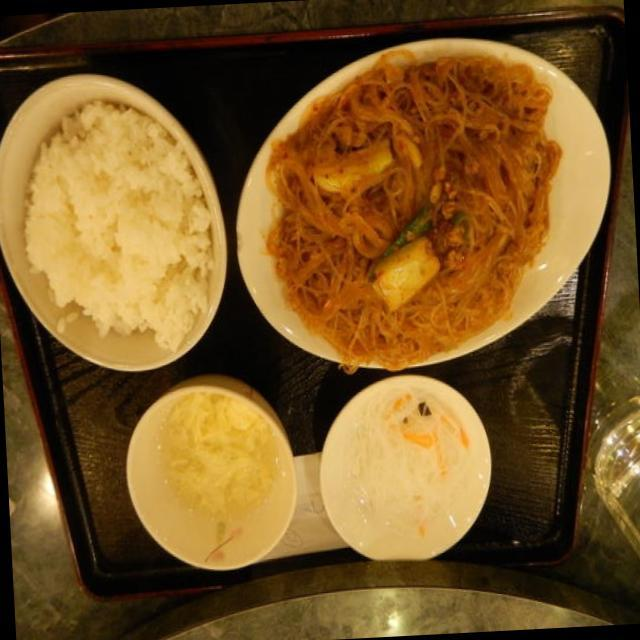Rice: (10, 87, 214, 369)
